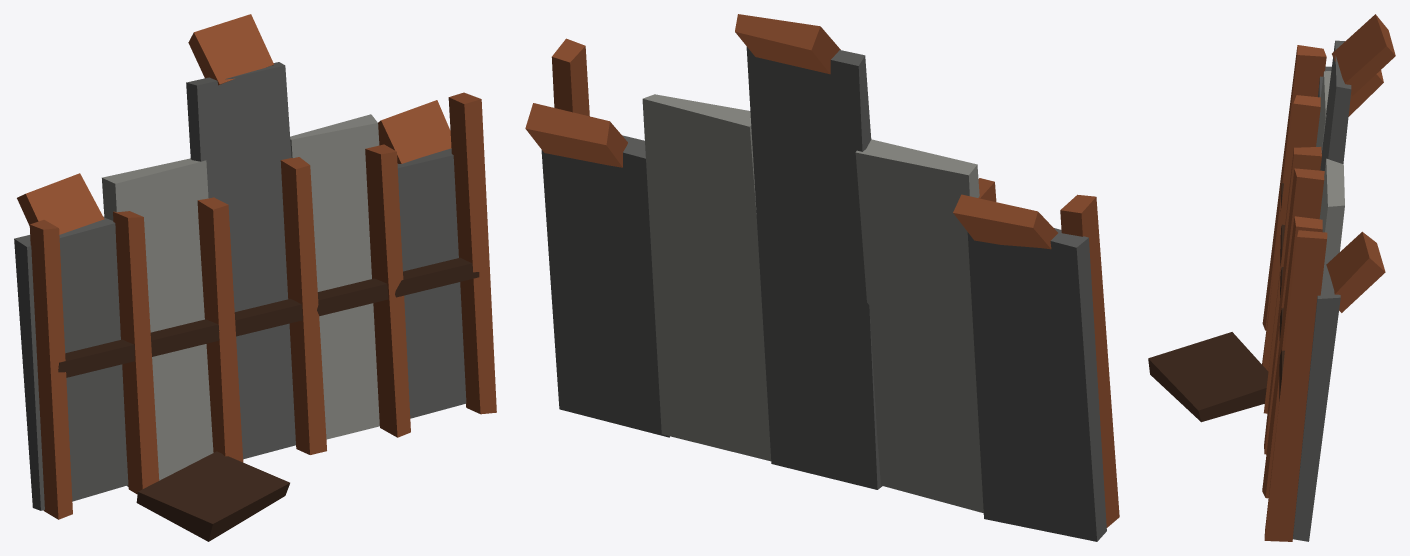
Rendered from hull_wall.glb.
3 views of the same model, side by side, from view 1: azimuth 30°, elevation 25°; view 2: azimuth 150°, elevation 25°; view 3: azimuth 270°, elevation 25° (orthographic). The views are drawn at different scales.
Visible parts, largest first — view 1: hull_wall; view 2: hull_wall; view 3: hull_wall.
Part boxes in pixels (x1,y1,x2,y2): hull_wall: (14, 14, 496, 541); hull_wall: (525, 14, 1119, 541); hull_wall: (1148, 14, 1395, 541).
Bounding box in the file's own units: 8.11 × 6.97 × 3.83.
